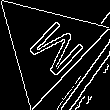M_SW: (13, 12, 81, 80)
